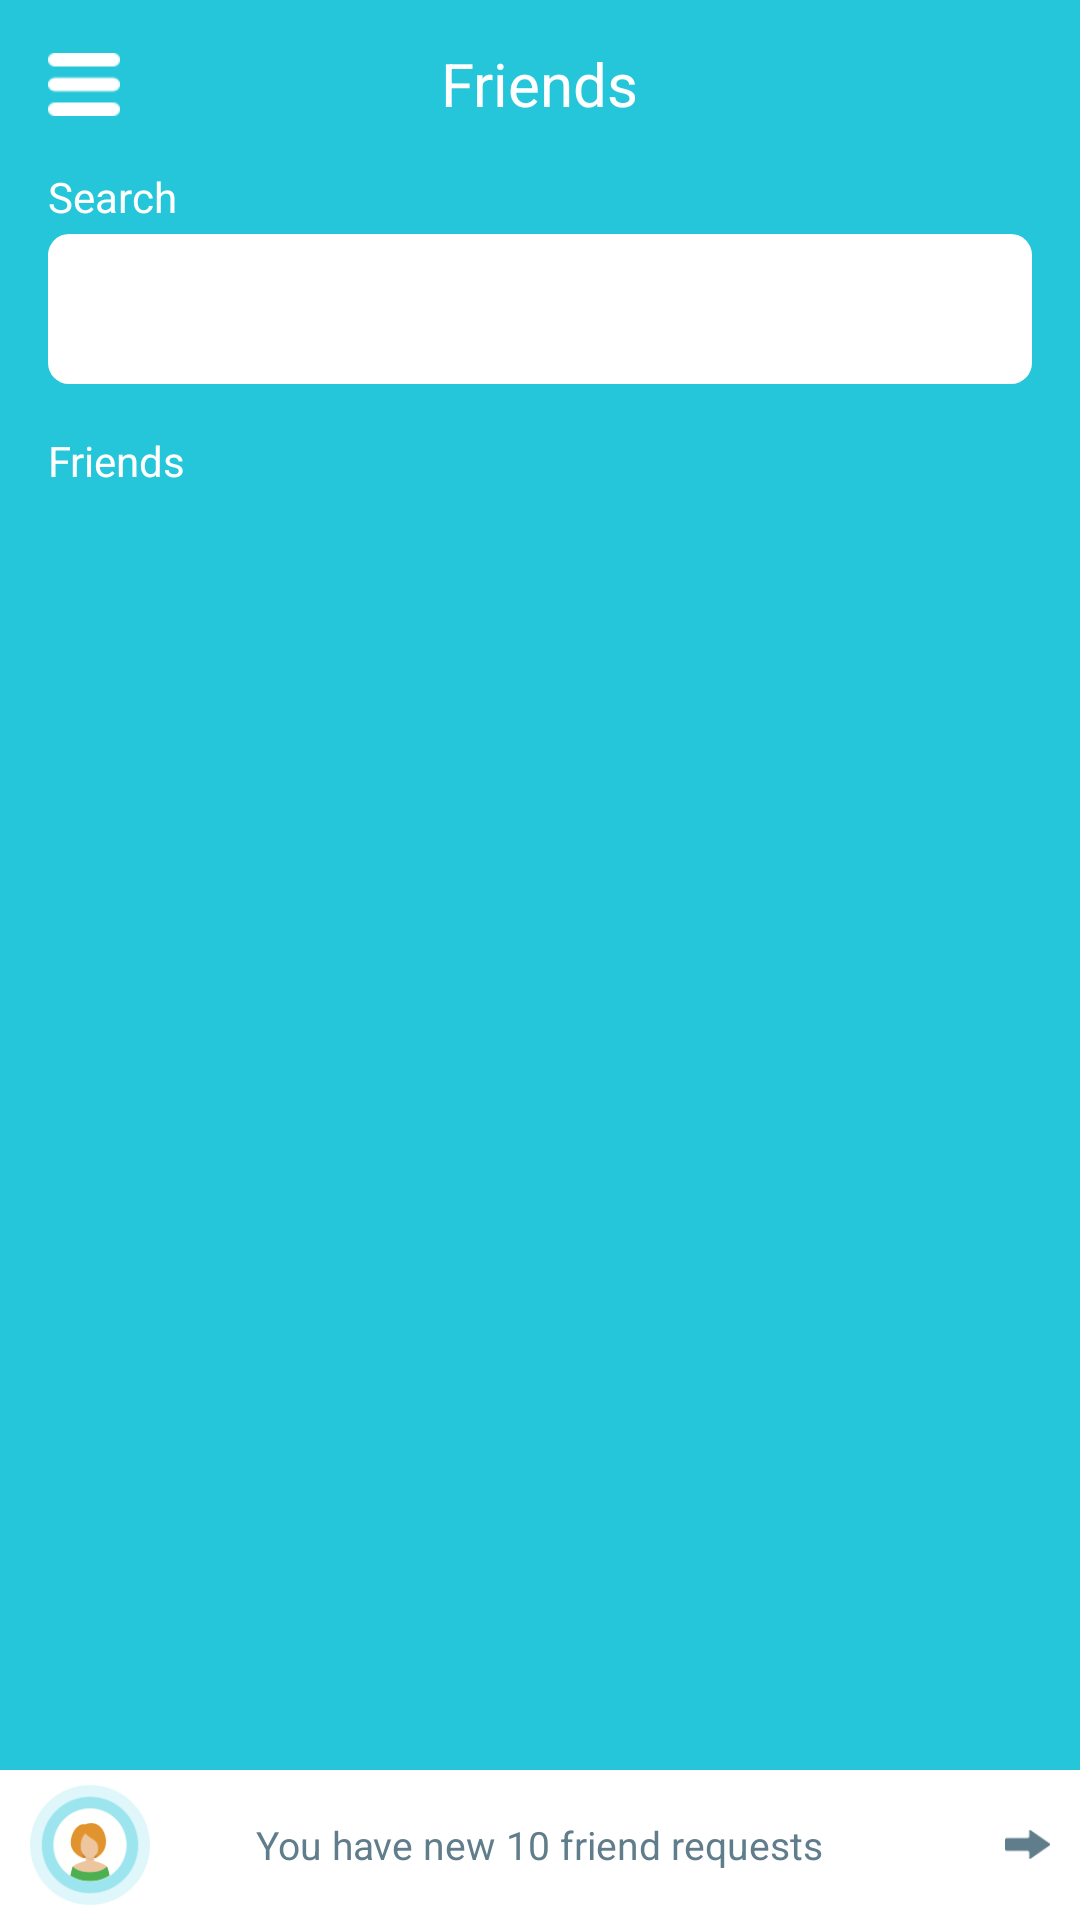

Locate icon controls on the screen. Image size 1080w x 1920h, boxes as [x1,y1,x2,y2].
right arrow: [1005,1830,1050,1859]
